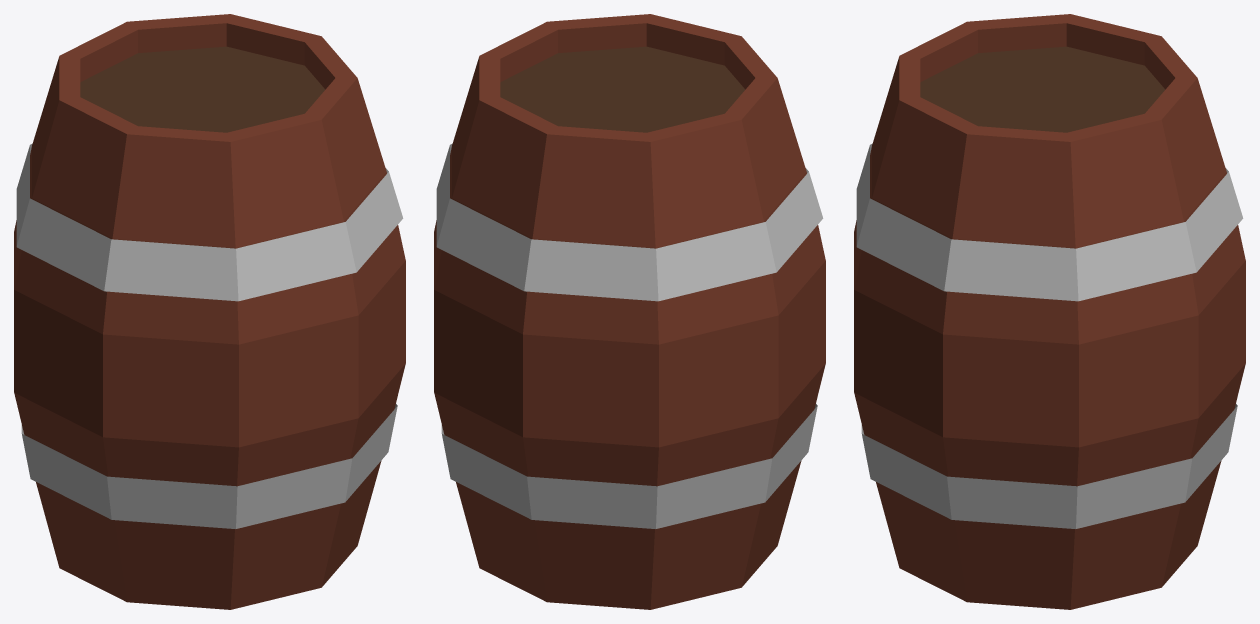
File: barrel.fbx
The picture shows the model from 3 angles, left to right: view 1: azimuth 30°, elevation 25°; view 2: azimuth 150°, elevation 25°; view 3: azimuth 270°, elevation 25°; orthographic projection.
Parts seen in each view (by area): view 1: Cylinder; view 2: Cylinder; view 3: Cylinder.
Boxes of the visible parts, left/top/right/bottom form: Cylinder: left=14, top=14, right=405, bottom=609; Cylinder: left=434, top=14, right=825, bottom=609; Cylinder: left=854, top=14, right=1245, bottom=609.
Size of the model in its own units: 154 by 200 by 152.
